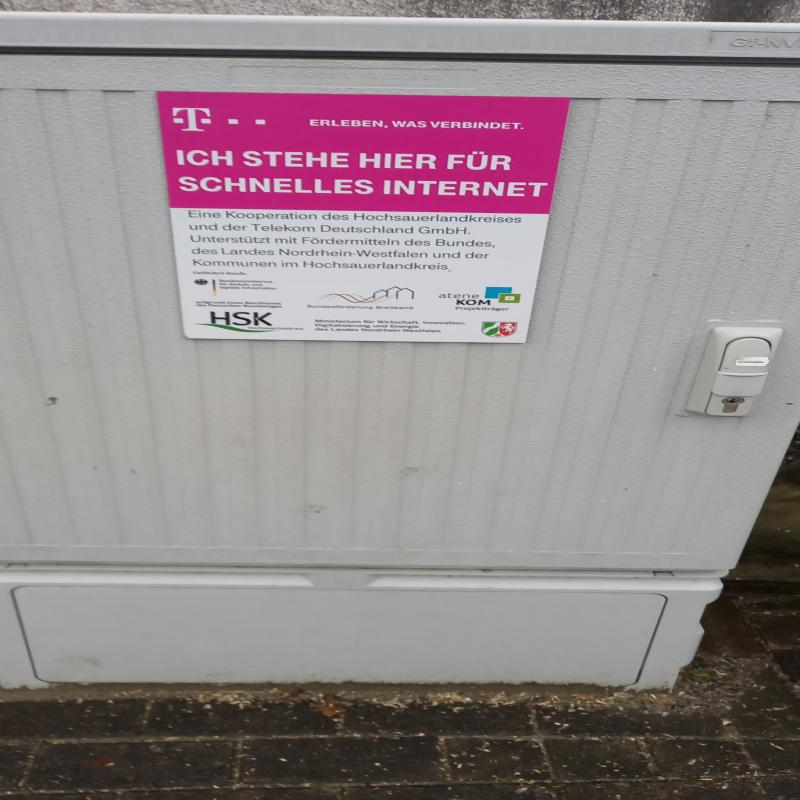NT-Gehause: (0, 16, 800, 682)
Steaker: (157, 88, 578, 348)
